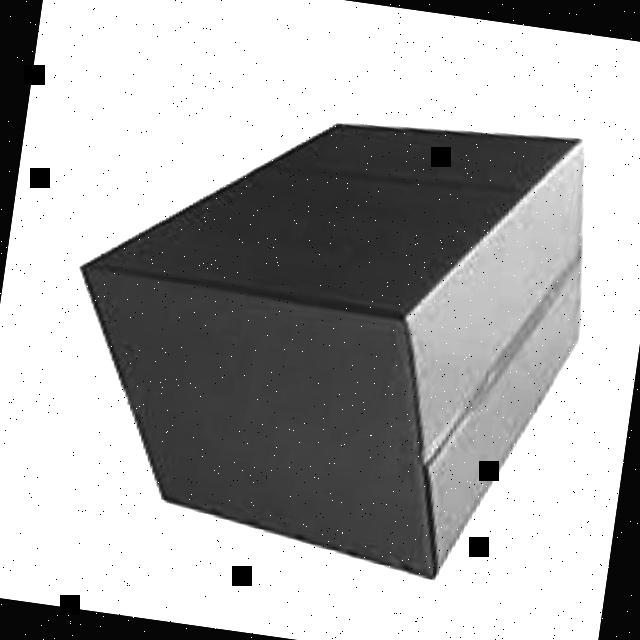cardboard_box: (38, 60, 624, 599)
